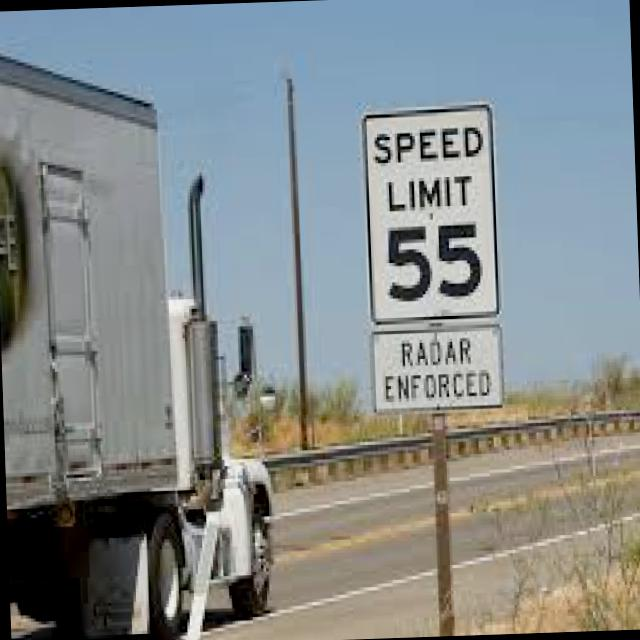Speed Limit Signs: (358, 98, 506, 330)
